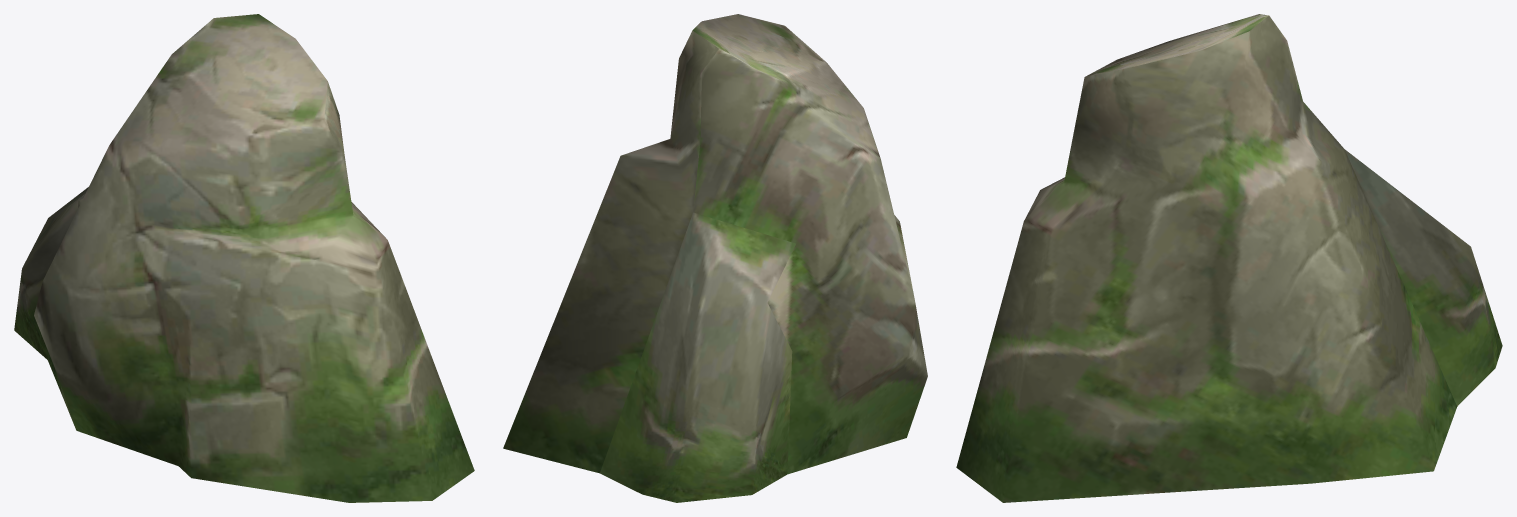
Rendered from shitou_14.FBX.
3 views of the same model, side by side, from view 1: azimuth 30°, elevation 25°; view 2: azimuth 150°, elevation 25°; view 3: azimuth 270°, elevation 25° (orthographic). The views are drawn at different scales.
Parts seen in each view (by area): view 1: shitou_14; view 2: shitou_14; view 3: shitou_14.
Boxes of the visible parts, x1,y1,x2,y2 form: shitou_14: (14, 14, 474, 502); shitou_14: (503, 14, 927, 502); shitou_14: (956, 14, 1502, 502).
Bounding box in the file's own units: 255 × 300 × 354.
